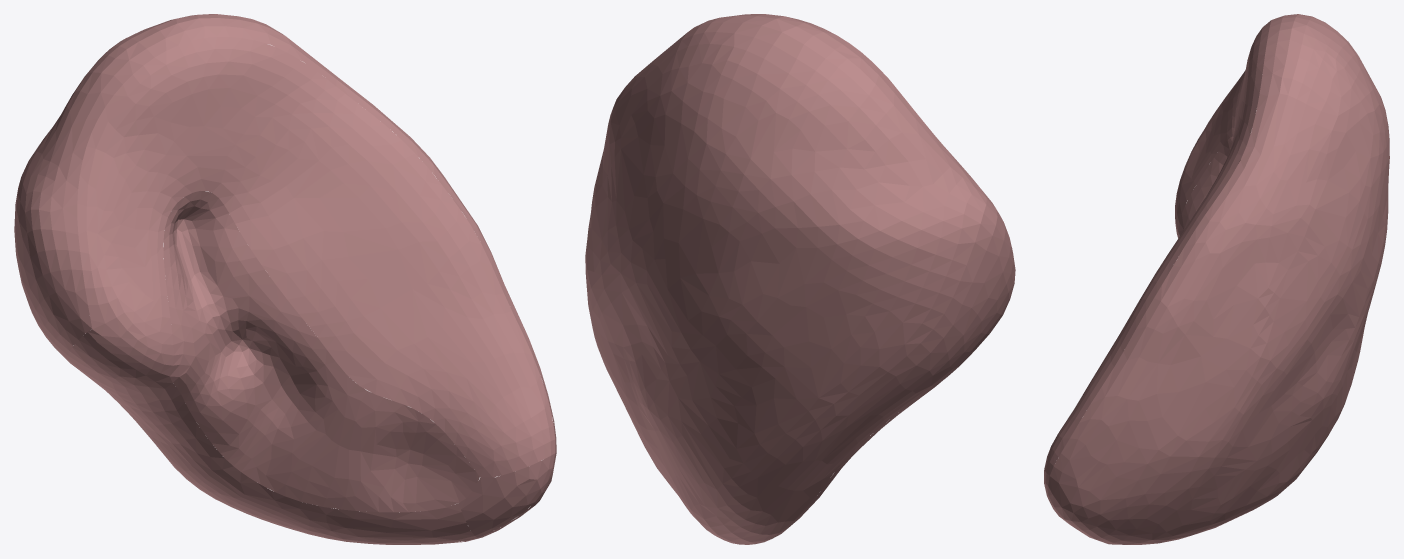
File: VH_F_Spleen_0.4.glb
3 views of the same model, side by side, from view 1: azimuth 30°, elevation 25°; view 2: azimuth 150°, elevation 25°; view 3: azimuth 270°, elevation 25° (orthographic). The views are drawn at different scales.
Parts seen in each view (by area): view 1: VH_F_gastric_surface_of_spleen, VH_F_hilum_of_spleen, VH_F_diaphragmatic_surface_of_spleen, VH_F_renal_surface_of_spleen, VH_F_colic_surface_of_spleen; view 2: VH_F_diaphragmatic_surface_of_spleen; view 3: VH_F_diaphragmatic_surface_of_spleen, VH_F_gastric_surface_of_spleen, VH_F_hilum_of_spleen.
Boxes of the visible parts, <box> form: VH_F_gastric_surface_of_spleen: <box>77,37,555,477</box>; VH_F_hilum_of_spleen: <box>163,191,479,512</box>; VH_F_diaphragmatic_surface_of_spleen: <box>14,14,556,544</box>; VH_F_renal_surface_of_spleen: <box>67,329,477,544</box>; VH_F_colic_surface_of_spleen: <box>458,453,554,537</box>; VH_F_diaphragmatic_surface_of_spleen: <box>585,14,1015,544</box>; VH_F_diaphragmatic_surface_of_spleen: <box>1048,14,1389,544</box>; VH_F_gastric_surface_of_spleen: <box>1044,20,1270,475</box>; VH_F_hilum_of_spleen: <box>1178,136,1240,237</box>.
Size of the model in its own units: 0.0896 by 0.1024 by 0.0709.
